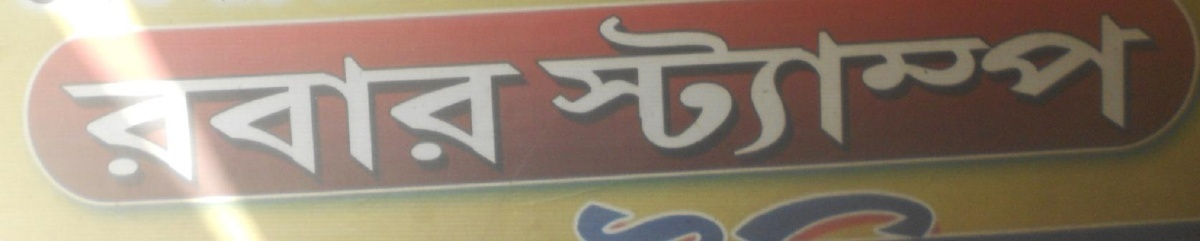text: (65, 40, 80, 194), (81, 40, 96, 194), (97, 40, 112, 194), (113, 40, 128, 194), (129, 40, 144, 194), (145, 40, 160, 194), (161, 40, 176, 194), (177, 40, 192, 194), (193, 40, 208, 194), (209, 40, 224, 194), (225, 40, 240, 194), (241, 40, 256, 194), (257, 40, 272, 194), (273, 40, 288, 194), (289, 40, 304, 194), (305, 40, 320, 194), (321, 40, 336, 194), (337, 40, 352, 194), (353, 40, 368, 194), (369, 40, 384, 194), (385, 40, 400, 194), (401, 40, 416, 194), (417, 40, 432, 194), (433, 40, 448, 194), (449, 40, 464, 194), (465, 40, 480, 194), (481, 40, 496, 194), (497, 40, 512, 194), (513, 40, 528, 194), (545, 13, 560, 159), (561, 13, 576, 159), (577, 13, 592, 159), (593, 13, 608, 159), (609, 13, 624, 159), (625, 13, 640, 159), (641, 13, 656, 159), (657, 13, 672, 159), (673, 13, 688, 159), (689, 13, 704, 159), (705, 13, 720, 159), (721, 13, 736, 159), (737, 13, 752, 159), (753, 13, 768, 159), (769, 13, 784, 159), (785, 13, 800, 159), (801, 13, 816, 159), (817, 13, 832, 159), (833, 13, 848, 159), (849, 13, 864, 159), (865, 13, 880, 159), (881, 13, 896, 159), (897, 13, 912, 159), (913, 13, 928, 159), (929, 13, 944, 159), (945, 13, 960, 159), (961, 13, 976, 159), (977, 13, 992, 159), (993, 13, 1008, 159), (1009, 13, 1024, 159), (1025, 13, 1040, 159), (1041, 13, 1056, 159), (1057, 13, 1072, 159), (1073, 13, 1088, 159), (1089, 13, 1104, 159), (1105, 13, 1120, 159), (1121, 13, 1136, 159), (1137, 13, 1152, 159), (532, 13, 544, 159), (1153, 13, 1164, 159), (577, 186, 592, 241), (593, 186, 608, 241), (609, 186, 624, 241), (625, 186, 640, 241), (641, 186, 656, 241), (657, 186, 672, 241), (673, 186, 688, 241), (689, 186, 704, 241), (705, 186, 720, 241), (721, 186, 736, 241), (737, 186, 752, 241), (753, 186, 768, 241), (769, 186, 784, 241), (785, 186, 800, 241), (801, 186, 816, 241), (817, 186, 832, 241), (833, 186, 848, 241), (849, 186, 864, 241), (865, 186, 880, 241), (881, 186, 896, 241), (897, 186, 912, 241), (913, 186, 928, 241), (60, 40, 64, 194), (929, 186, 937, 241), (529, 40, 531, 194), (574, 186, 576, 241)
